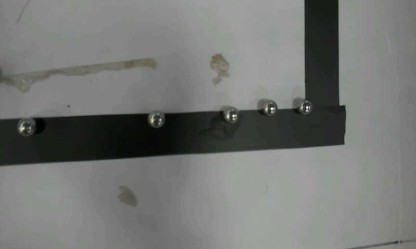ironball: (17, 118, 35, 136), (147, 110, 164, 128), (222, 106, 238, 123), (261, 100, 277, 116), (297, 99, 312, 114)
